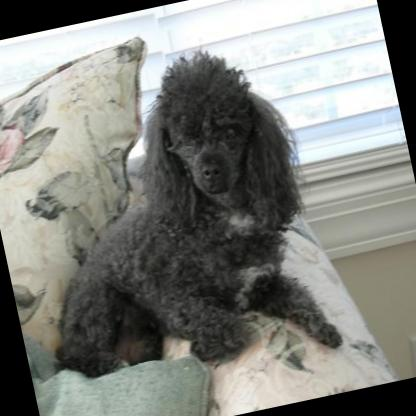toy_poodle: (0, 29, 345, 403)
